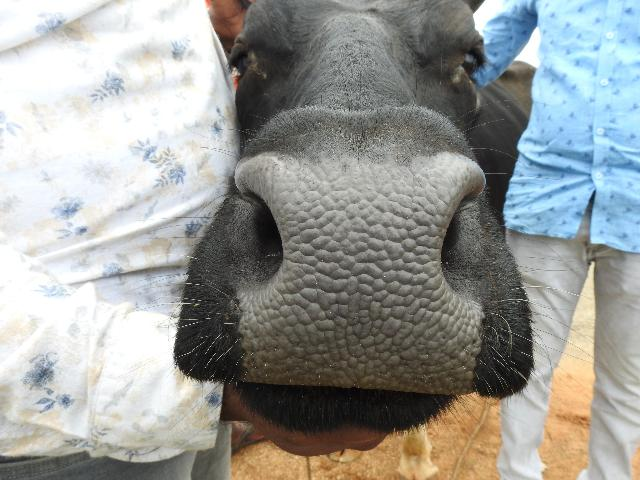Muzzle: (246, 163, 454, 395)
